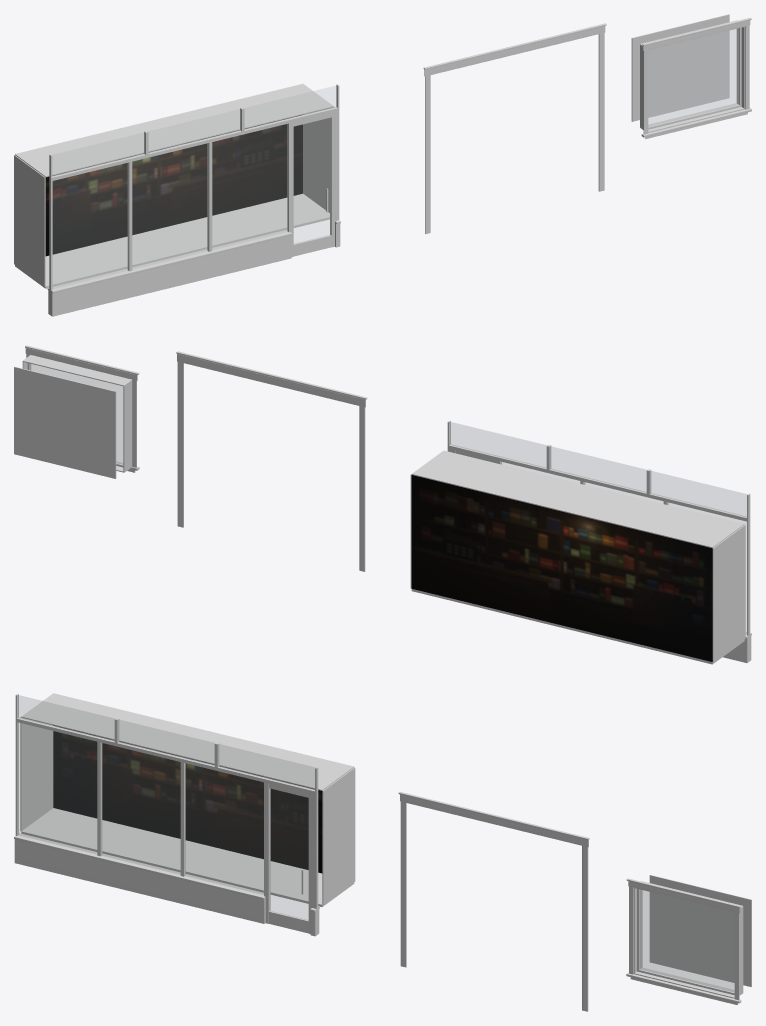
The model's file is SM_Town_Brannigan_Trim.fbx.
3 renders of one model, top to bottom at view 1: azimuth 30°, elevation 25°; view 2: azimuth 150°, elevation 25°; view 3: azimuth 330°, elevation 25°, orthographic. The views are drawn at different scales.
Parts seen in each view (by area): view 1: SM_Town_Brannigan_Trim_1; view 2: SM_Town_Brannigan_Trim_1; view 3: SM_Town_Brannigan_Trim_1.
Boxes of the visible parts, box(x1,y1,x2,y2) form: SM_Town_Brannigan_Trim_1: box(14, 14, 751, 316); SM_Town_Brannigan_Trim_1: box(14, 345, 751, 664); SM_Town_Brannigan_Trim_1: box(14, 693, 751, 1011).
Size of the model in its own units: 1574 by 360 by 157.
